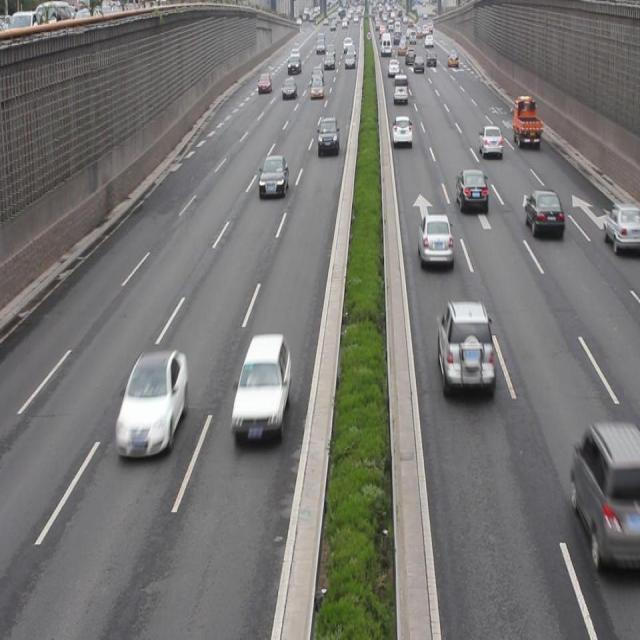bus: (511, 98, 539, 146)
car: (113, 348, 187, 464), (232, 334, 288, 440), (436, 300, 494, 398), (416, 212, 451, 270), (524, 190, 563, 242), (602, 202, 640, 253), (455, 166, 488, 214), (258, 155, 287, 197), (476, 122, 501, 159), (318, 116, 338, 155), (392, 115, 412, 148)
truck: (572, 421, 640, 572)
